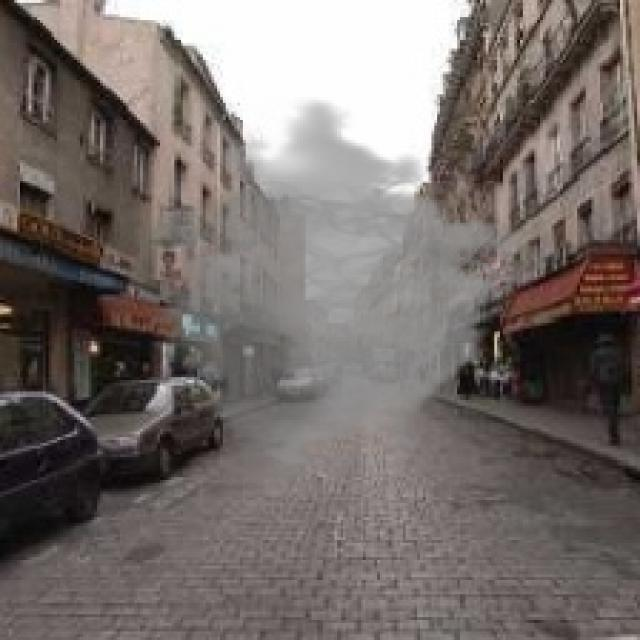Smoke: (120, 97, 540, 472)
